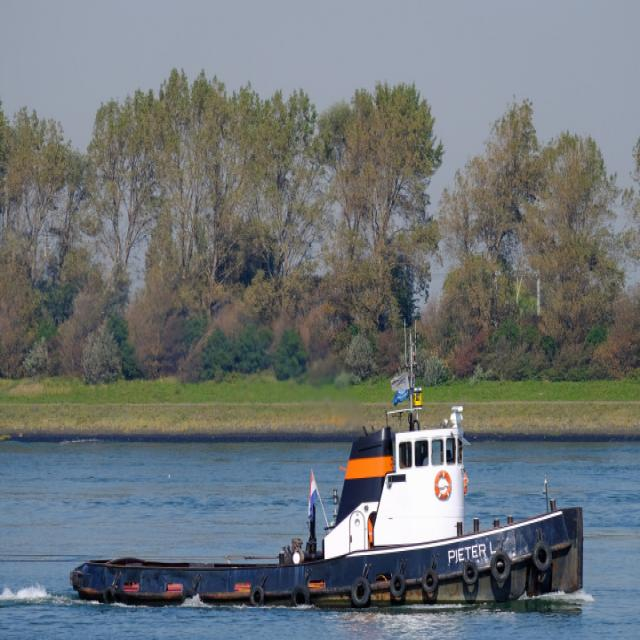tugboat: (66, 387, 590, 620)
